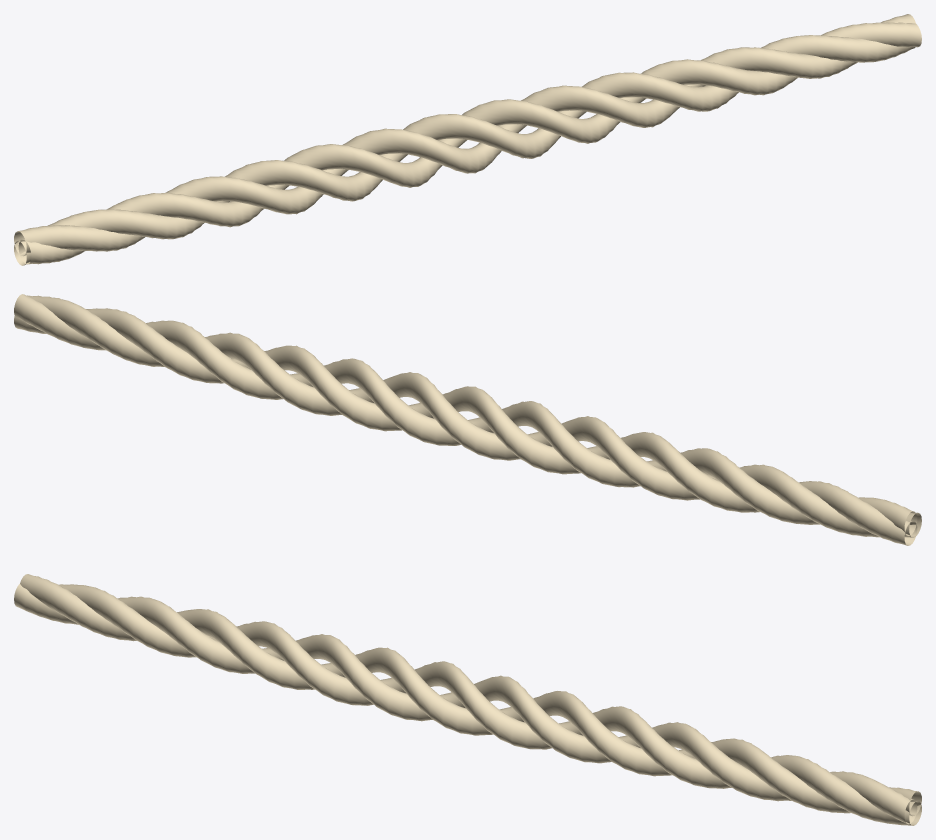
Rendered from rope.fbx.
The picture shows the model from 3 angles, top to bottom: view 1: azimuth 30°, elevation 25°; view 2: azimuth 150°, elevation 25°; view 3: azimuth 330°, elevation 25°; orthographic projection.
Parts seen in each view (by area): view 1: rope; view 2: rope; view 3: rope.
Part boxes in pixels (<box>): rope: <box>14,14,921,265</box>; rope: <box>14,294,921,545</box>; rope: <box>14,574,921,825</box>.
Bounding box in the file's own units: 1.6 × 0.1034 × 0.1034.
